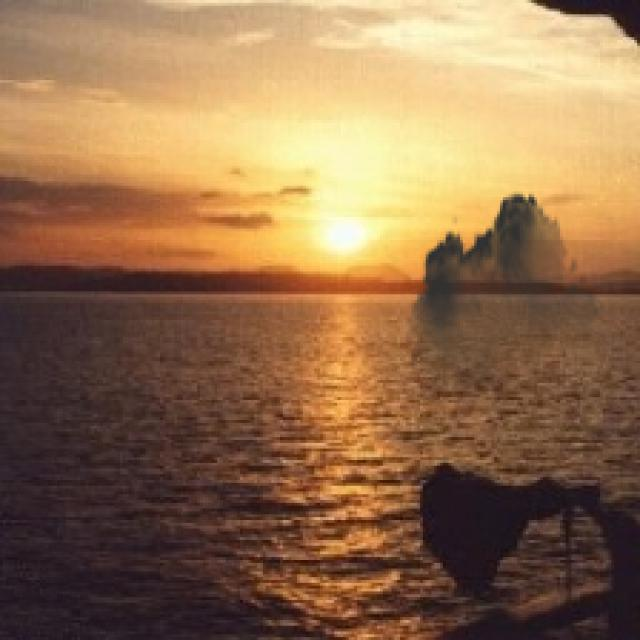smoke: (406, 183, 606, 423)
